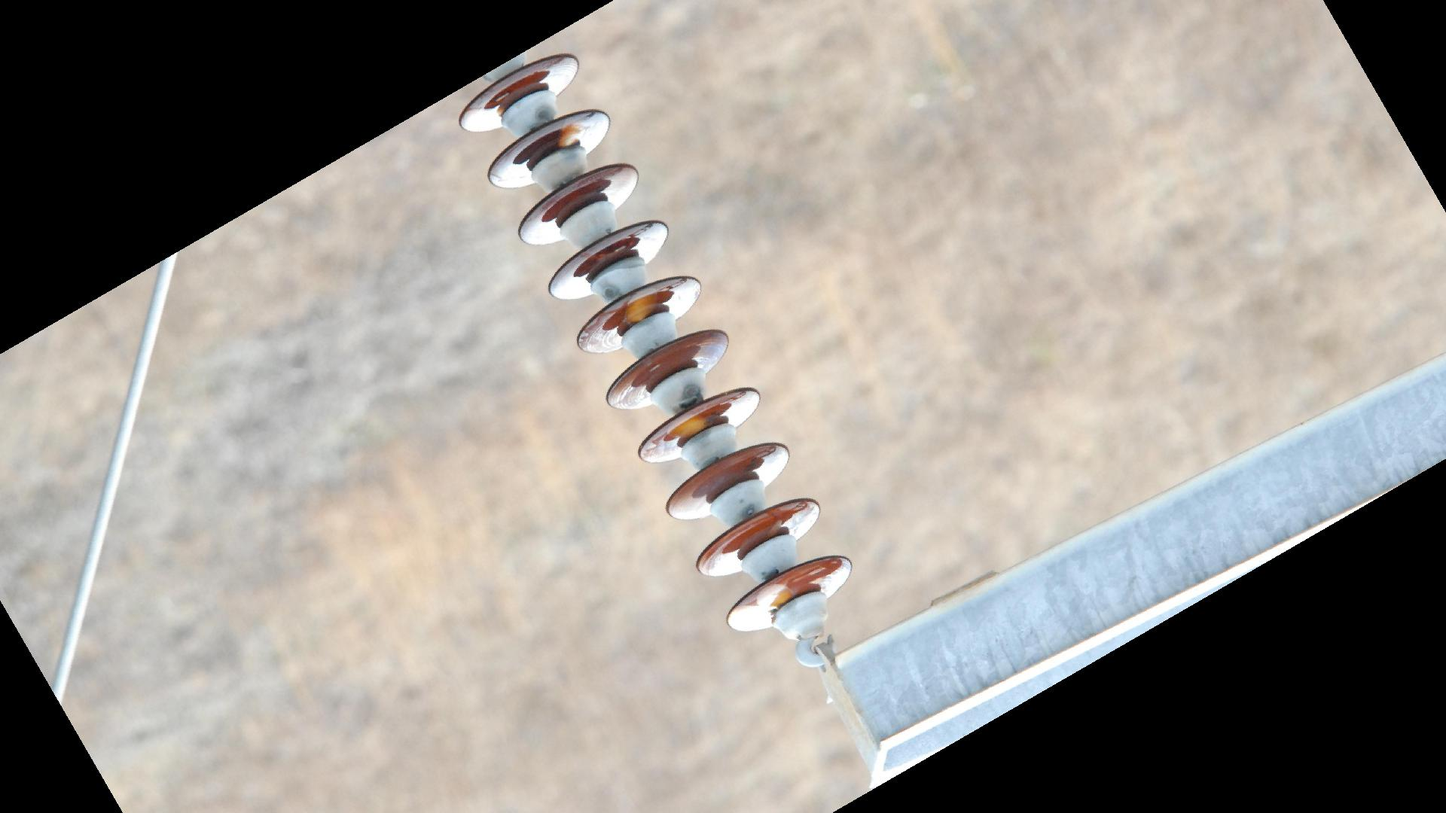insulator: (450, 48, 857, 642)
insulator_flashover: (622, 285, 660, 326), (754, 580, 795, 611), (665, 413, 709, 440), (555, 119, 587, 150)
